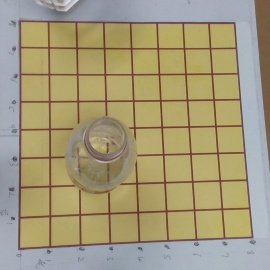bottle: (65, 116, 136, 196)
